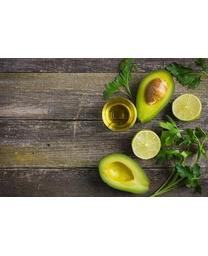avocado: (99, 153, 149, 196), (135, 69, 174, 124)
